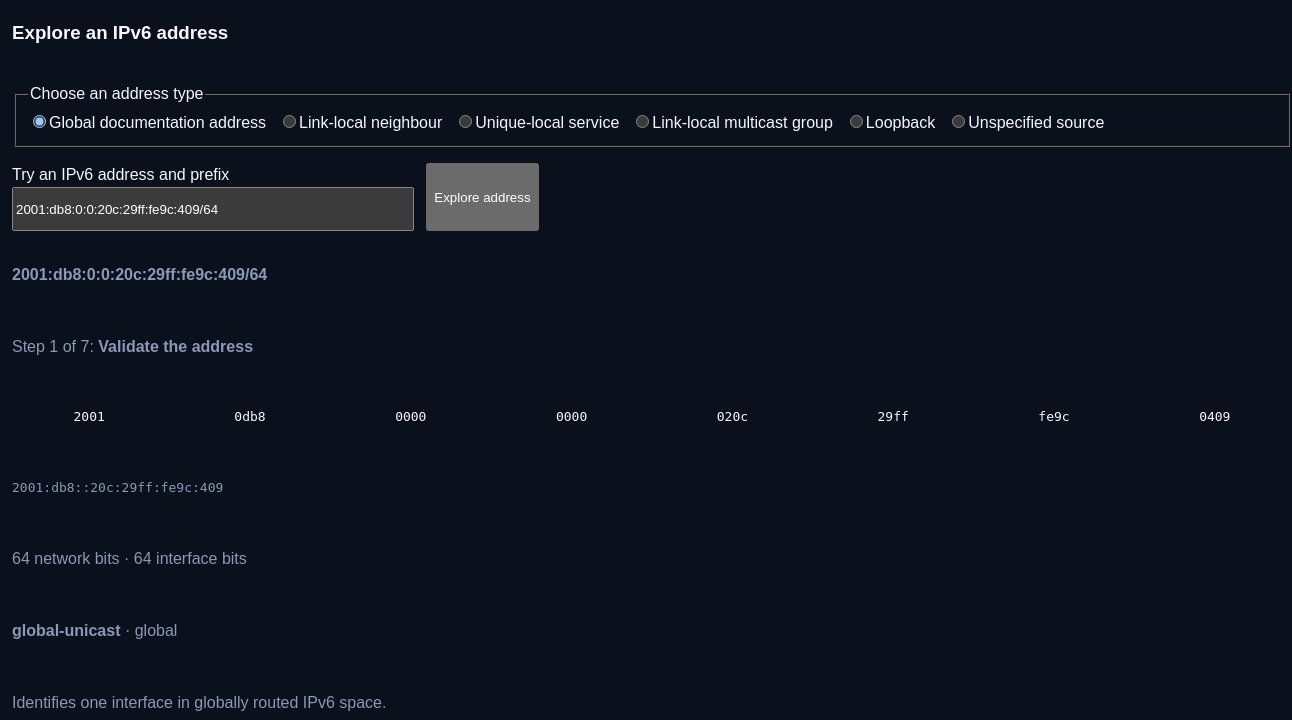
Ipv6AddressExplorer › offers curated address types and resets to the selected analysis
Click the radio button labelled "Link-local neighbour".
click(290, 122)  # box [283,115,296,128]
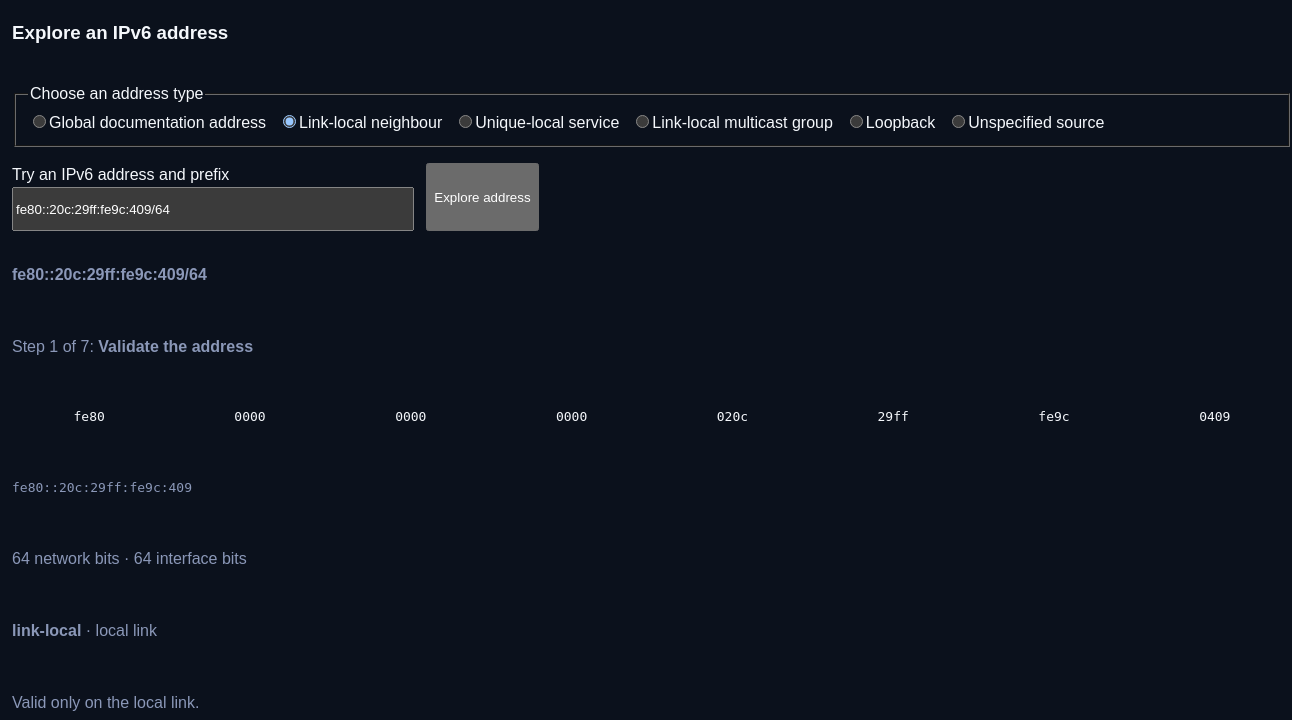
Expected: the message shows "Step 1 of 7", [12,338,253,355]
Expected: the text "fe80::20c:29ff:fe9c:409/64" is shown, [12,266,207,283]
Expected: the text "link-local" is shown, [12,622,81,639]
